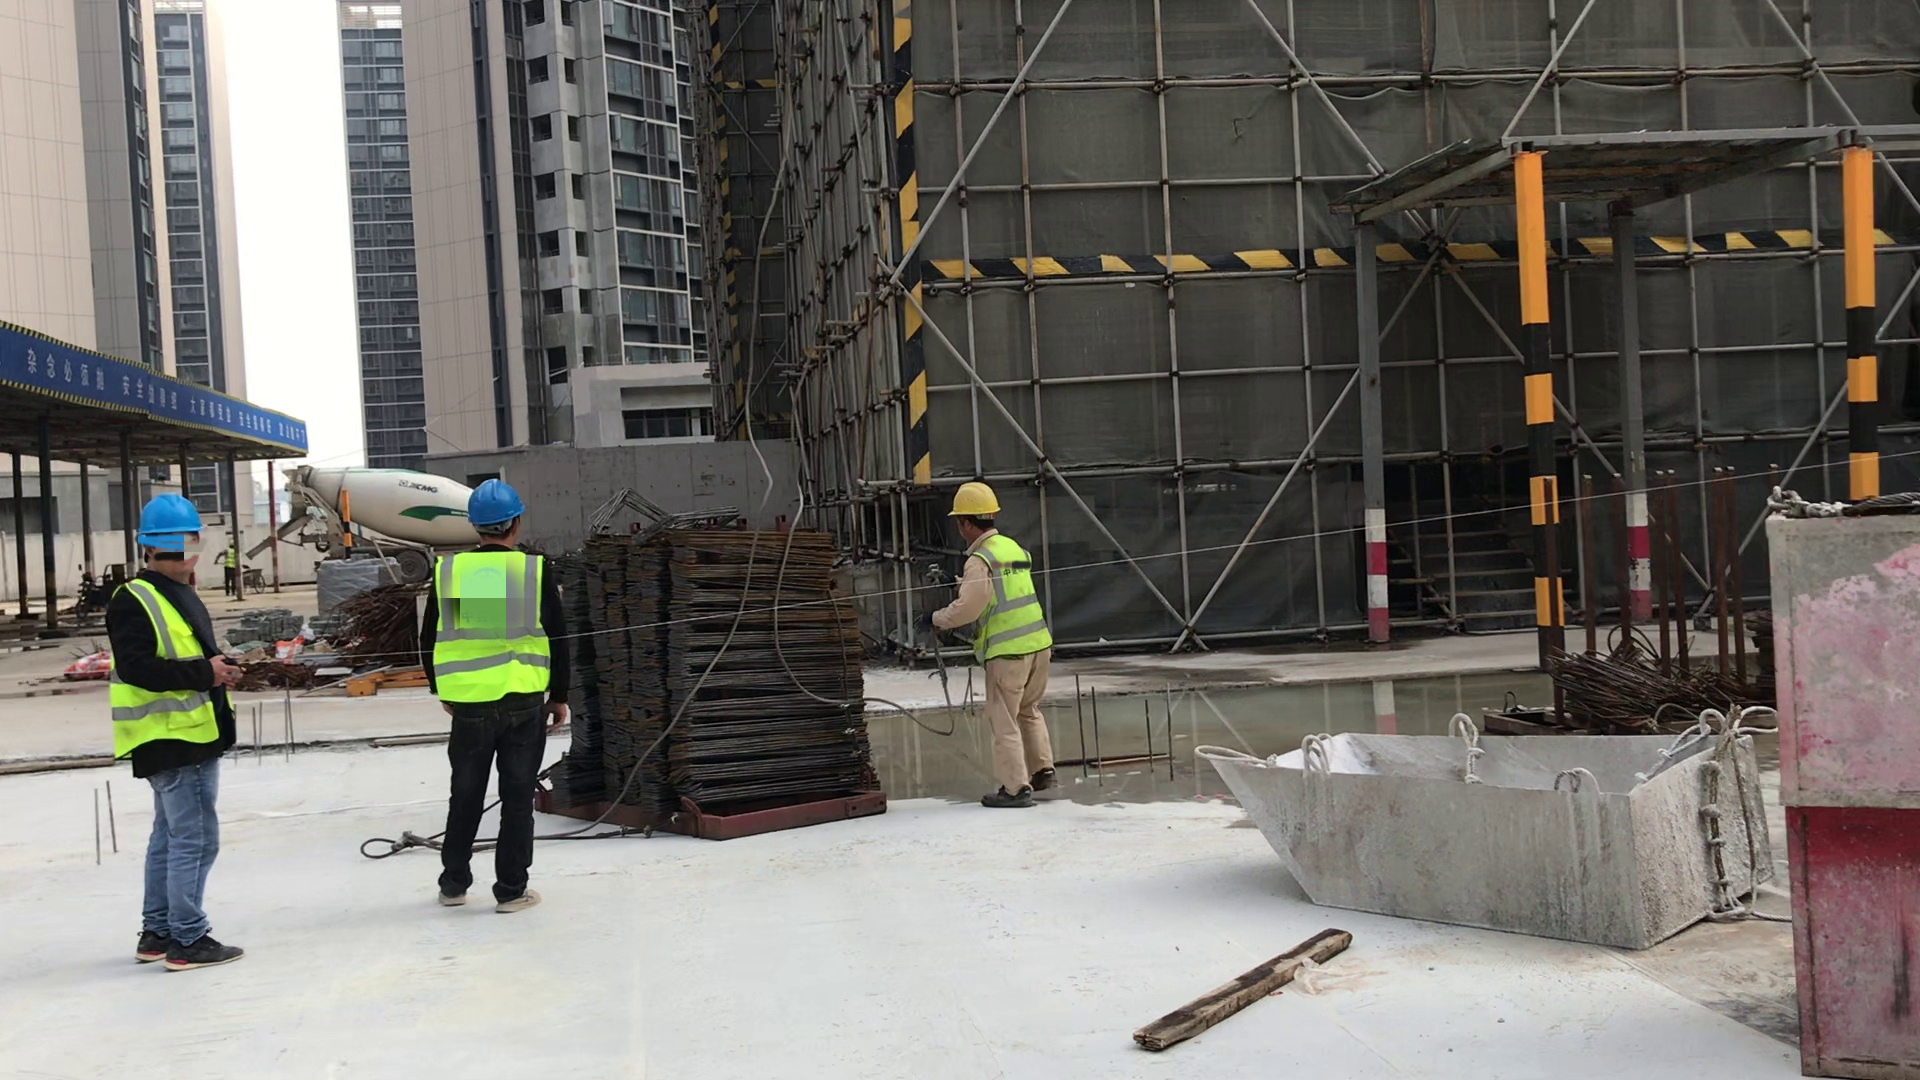helmet: (467, 478, 524, 528), (137, 492, 198, 530), (947, 482, 1001, 516)
hopper: (1212, 730, 1774, 943)
person: (111, 497, 247, 972), (421, 483, 563, 920), (938, 481, 1061, 816), (216, 542, 236, 596)
slogan: (9, 329, 305, 450)
vest: (433, 547, 556, 706), (115, 577, 216, 760), (971, 536, 1052, 665), (224, 548, 237, 567)
